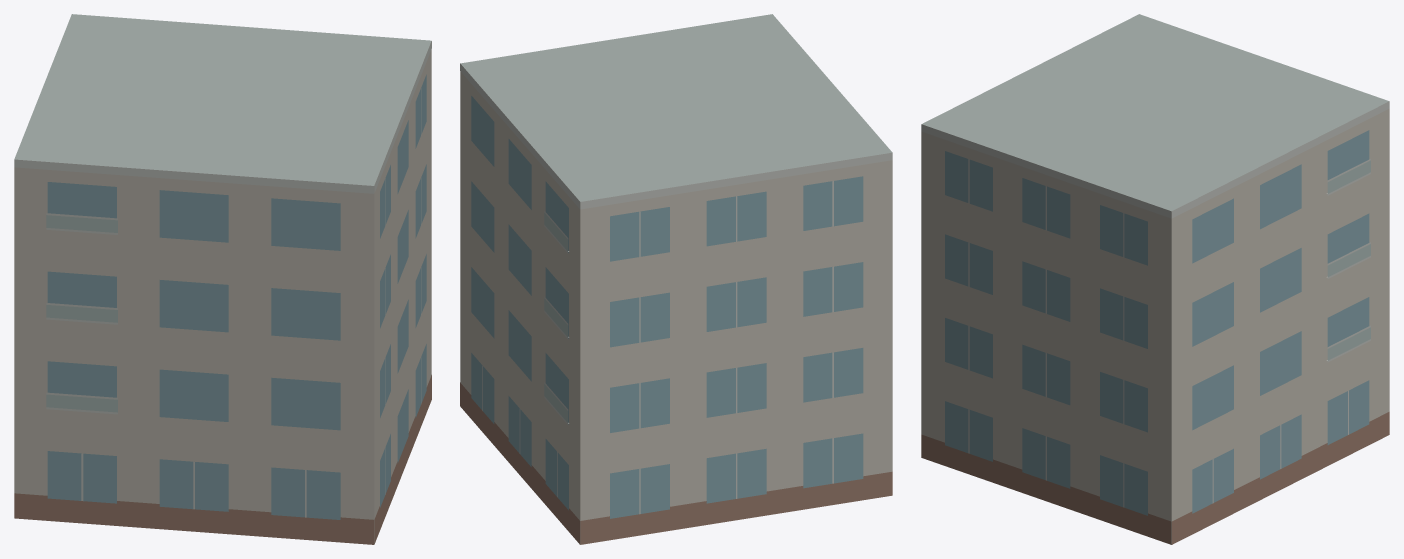
Rendered from survey-upis-32524245.glb.
3 views of the same model, side by side, from view 1: azimuth 30°, elevation 25°; view 2: azimuth 150°, elevation 25°; view 3: azimuth 270°, elevation 25° (orthographic). The views are drawn at different scales.
Visible parts, largest first — view 1: survey-upis-32524245.tmp; view 2: survey-upis-32524245.tmp; view 3: survey-upis-32524245.tmp.
Boxes of the visible parts, box(x1,y1,x2,y2) form: survey-upis-32524245.tmp: box(14, 14, 431, 544); survey-upis-32524245.tmp: box(460, 14, 892, 544); survey-upis-32524245.tmp: box(921, 14, 1389, 544).
Size of the model in its own units: 14.09 by 11.1 by 14.13.
